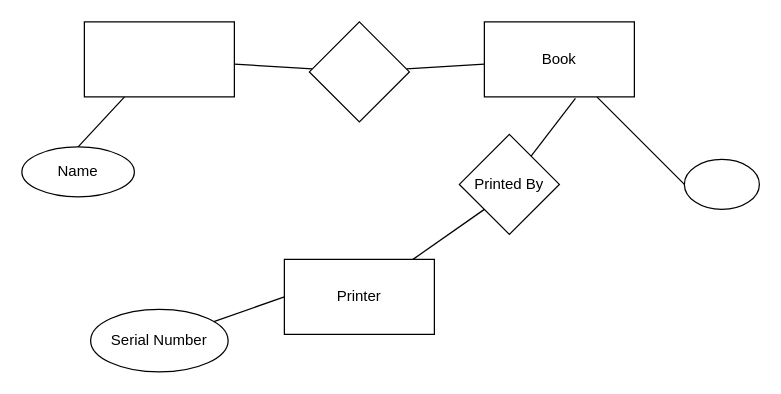
This 781x394 diagram has some shape labels left out. The shapes that lost their labels are listed below. From the top down, each one's centre as x and y in pixels, then its label:
At (x=158, y=59): "Author".
At (x=358, y=71): "Writes".
At (x=721, y=183): "Title".
